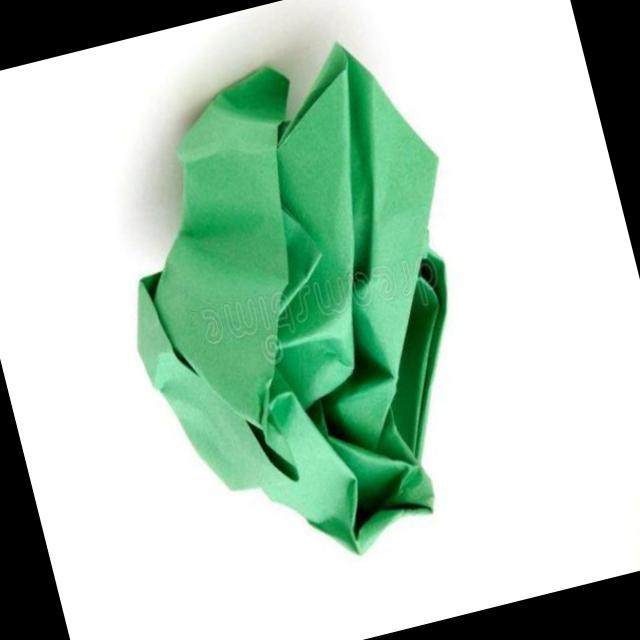cardboard paper: (140, 47, 447, 554)
